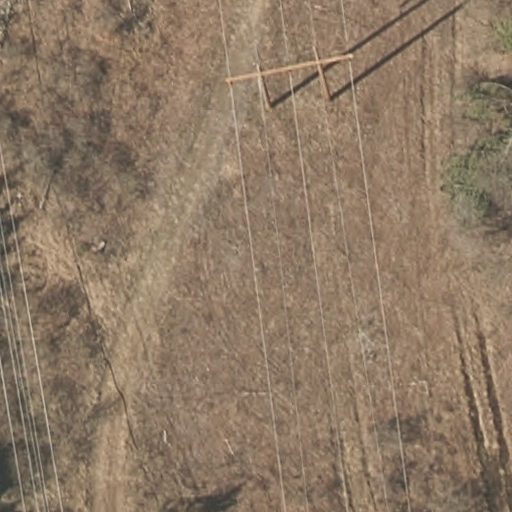DT: (227, 47, 353, 92)
